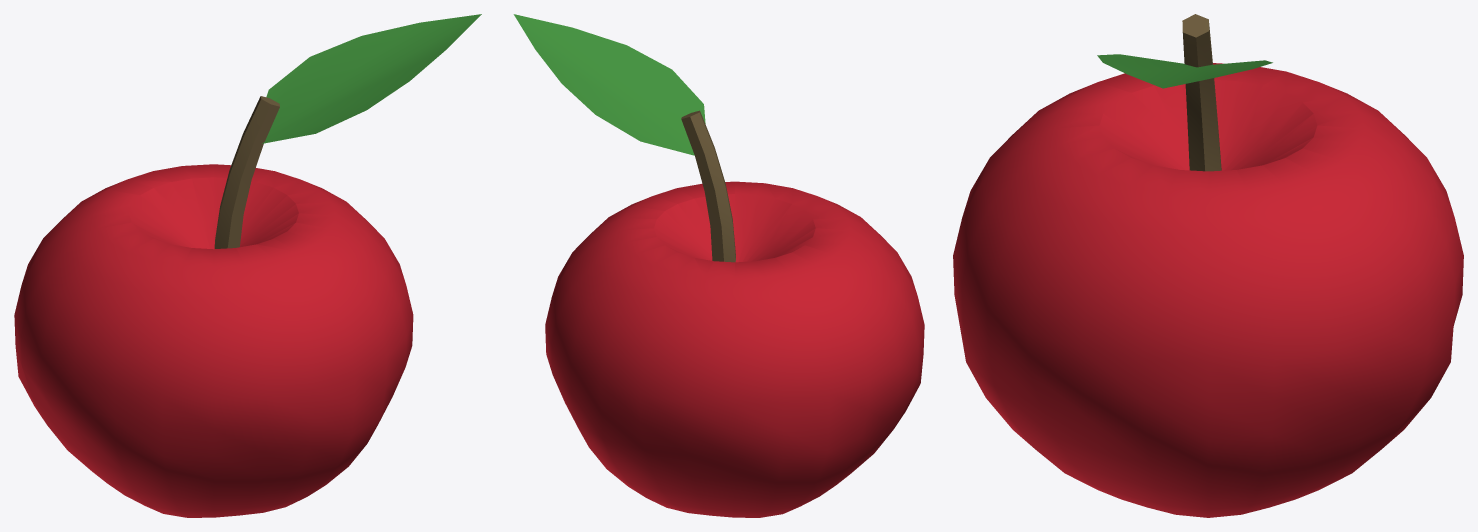
File: apple.glb
3 renders of one model, left to right at view 1: azimuth 30°, elevation 25°; view 2: azimuth 150°, elevation 25°; view 3: azimuth 270°, elevation 25°, orthographic. The views are drawn at different scales.
Parts seen in each view (by area): view 1: body; view 2: body; view 3: body.
Part boxes in pixels (<box>): body: <box>14,14,481,517</box>; body: <box>513,14,924,517</box>; body: <box>953,14,1463,517</box>.
Bounding box in the file's own units: 0.0989 × 0.0957 × 0.0805.
Materials: 1 (1 with a texture image).
